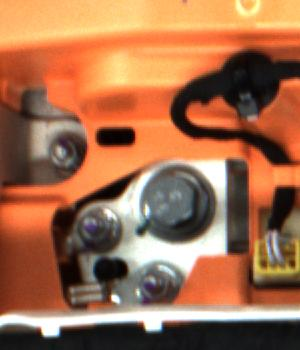nut_b: (139, 161, 228, 239)
screw_s: (79, 207, 126, 249), (44, 141, 86, 175), (137, 269, 179, 301)
